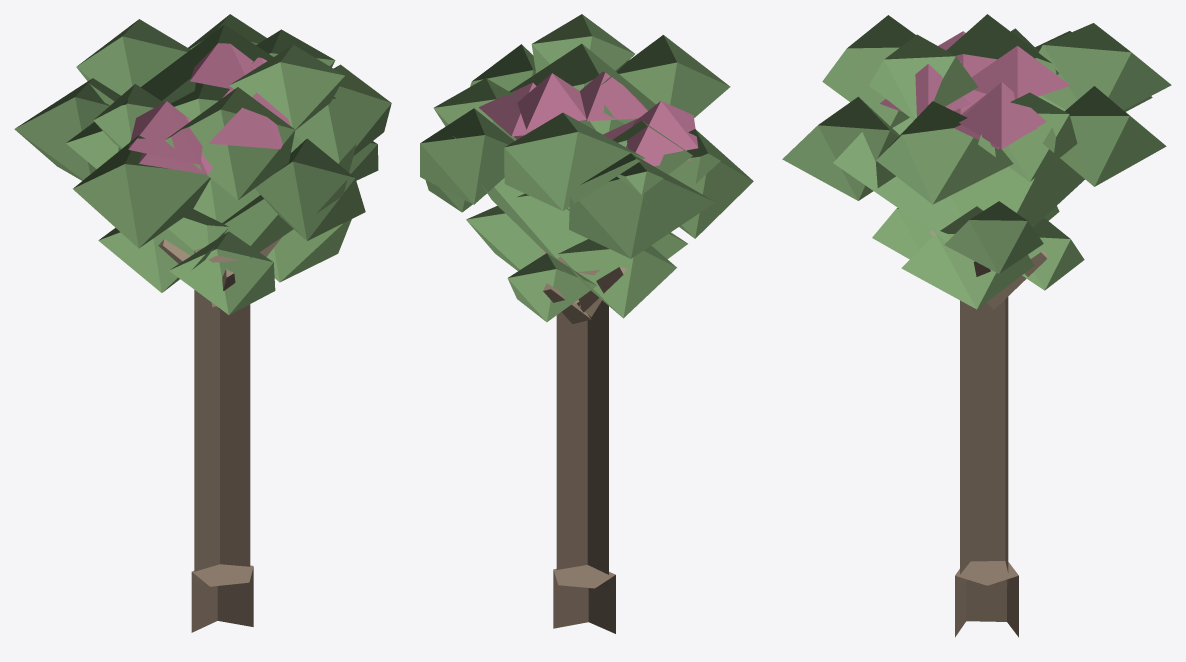
Rendered from tree.trop.kapok__bloom.glb.
The picture shows the model from 3 angles, left to right: view 1: azimuth 30°, elevation 25°; view 2: azimuth 150°, elevation 25°; view 3: azimuth 270°, elevation 25°; orthographic projection. The views are drawn at different scales.
Parts seen in each view (by area): view 1: tree.trop.kapok__bloom; view 2: tree.trop.kapok__bloom; view 3: tree.trop.kapok__bloom.
Boxes of the visible parts, left/top/right/bottom form: tree.trop.kapok__bloom: left=14, top=14, right=391, bottom=632; tree.trop.kapok__bloom: left=420, top=14, right=753, bottom=633; tree.trop.kapok__bloom: left=782, top=14, right=1171, bottom=637.
Size of the model in its own units: 16.21 by 30.29 by 17.27.
